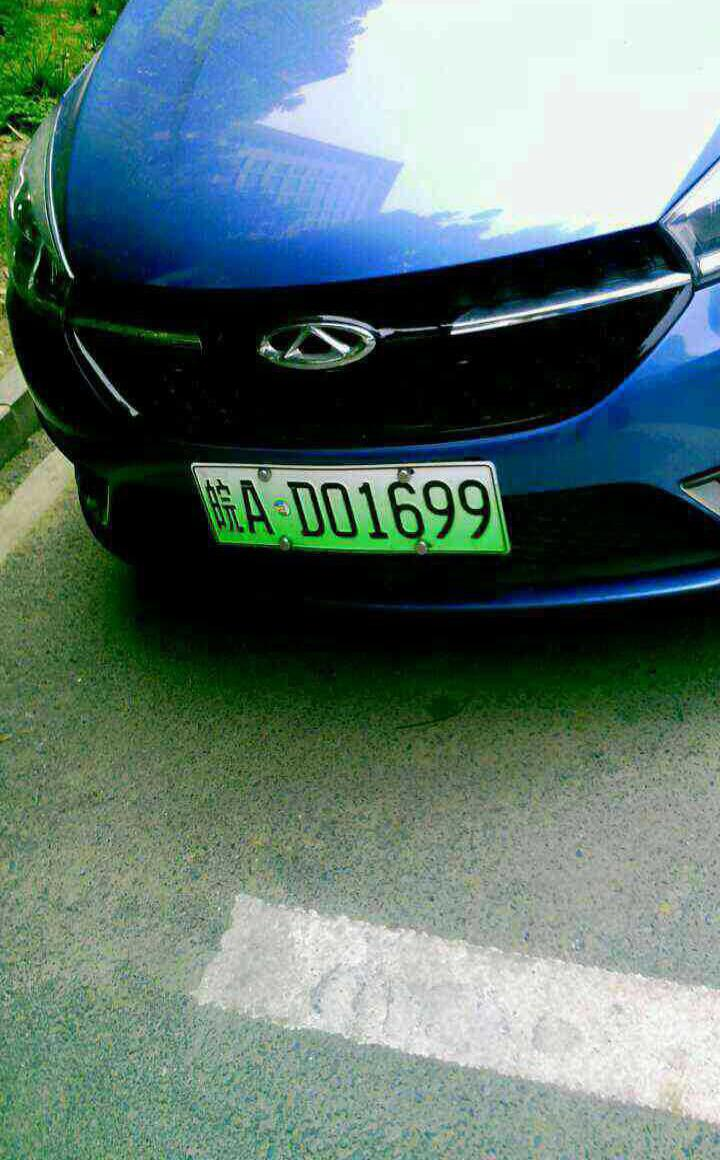car_id: (191, 461, 507, 550)
